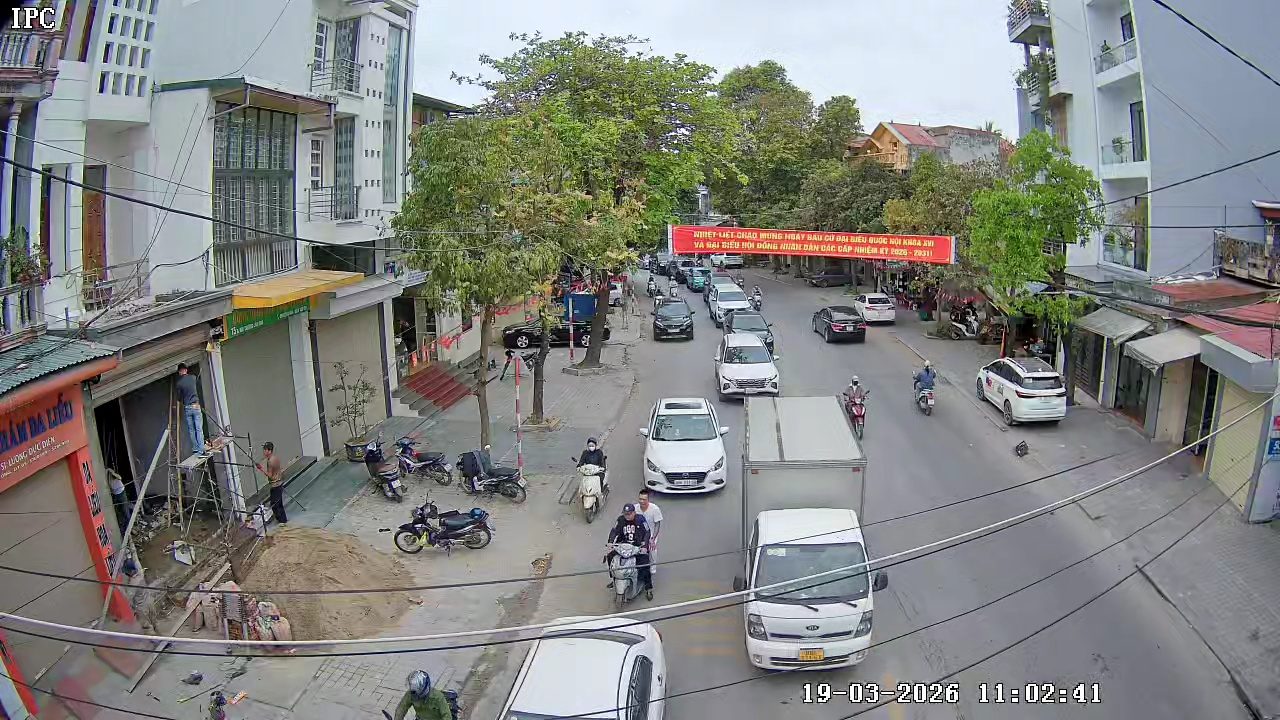car: (495, 617, 671, 719), (639, 395, 730, 496), (975, 354, 1070, 429), (714, 334, 783, 402), (727, 314, 778, 357), (817, 300, 867, 343), (653, 299, 697, 342), (862, 293, 899, 327)
exception: (384, 667, 462, 719)
motorbike: (393, 490, 496, 557), (604, 503, 659, 609), (456, 437, 530, 503), (571, 434, 611, 525), (838, 375, 870, 443), (636, 489, 664, 547), (912, 360, 938, 416)
truck: (731, 382, 890, 677)
